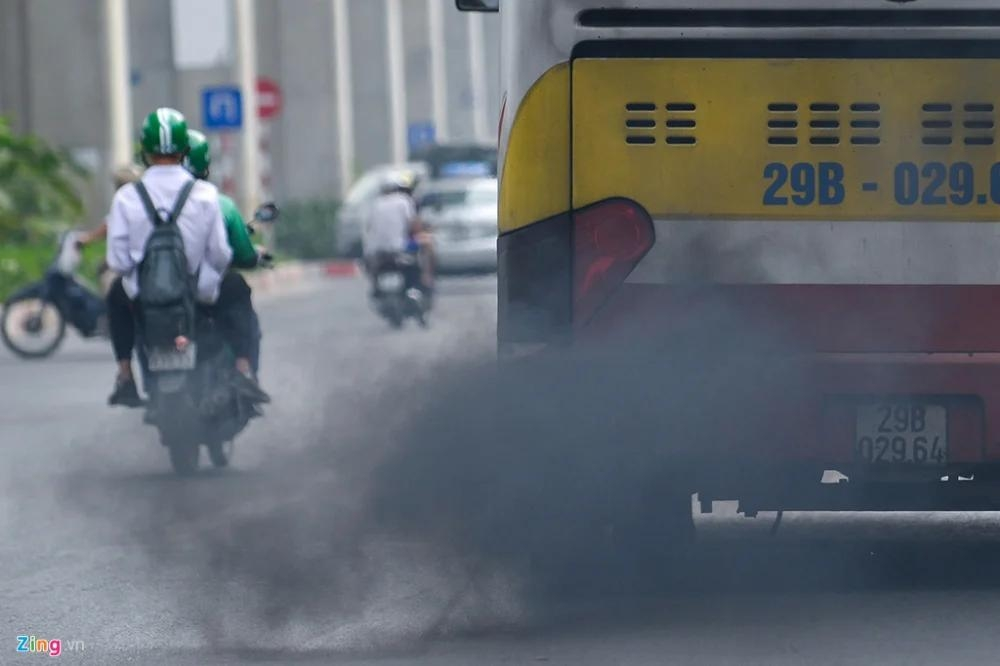bus: (499, 0, 1000, 509)
motorcycle: (144, 292, 269, 472), (4, 231, 122, 362), (374, 248, 432, 318)
